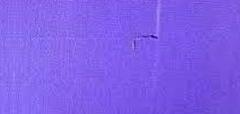snag: (131, 32, 160, 56)
